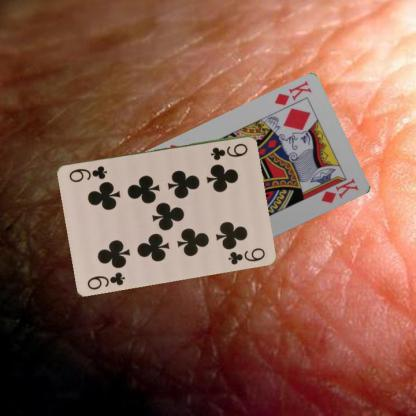9c: (85, 268, 126, 290), (209, 140, 249, 162)
Kd: (272, 78, 313, 108)
